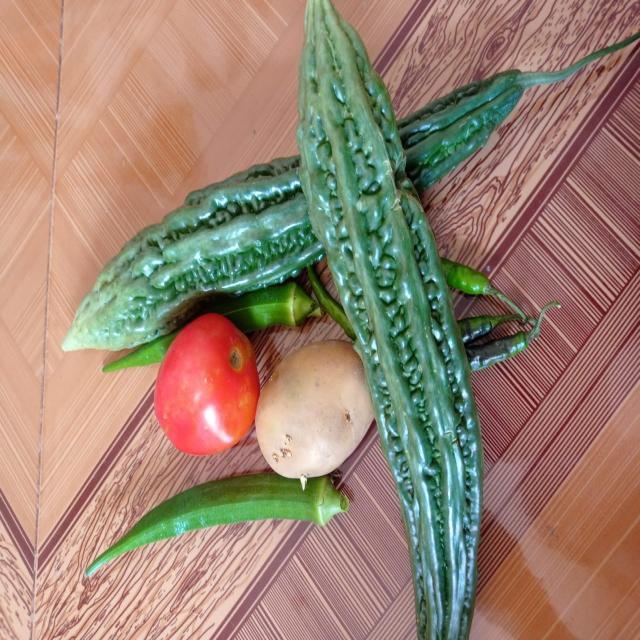Organik: (350, 84, 490, 640), (86, 474, 342, 583), (256, 344, 372, 487), (154, 312, 258, 469)
